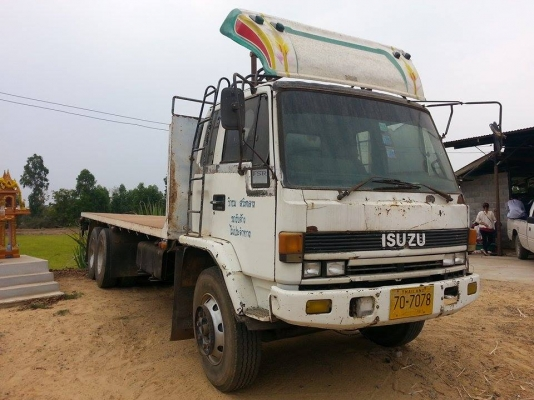truck: (163, 75, 479, 391)
